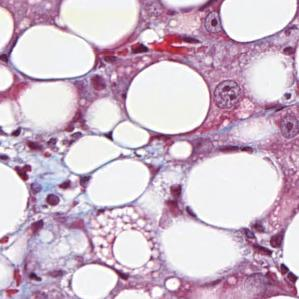inflammation: (125, 31, 208, 58)
